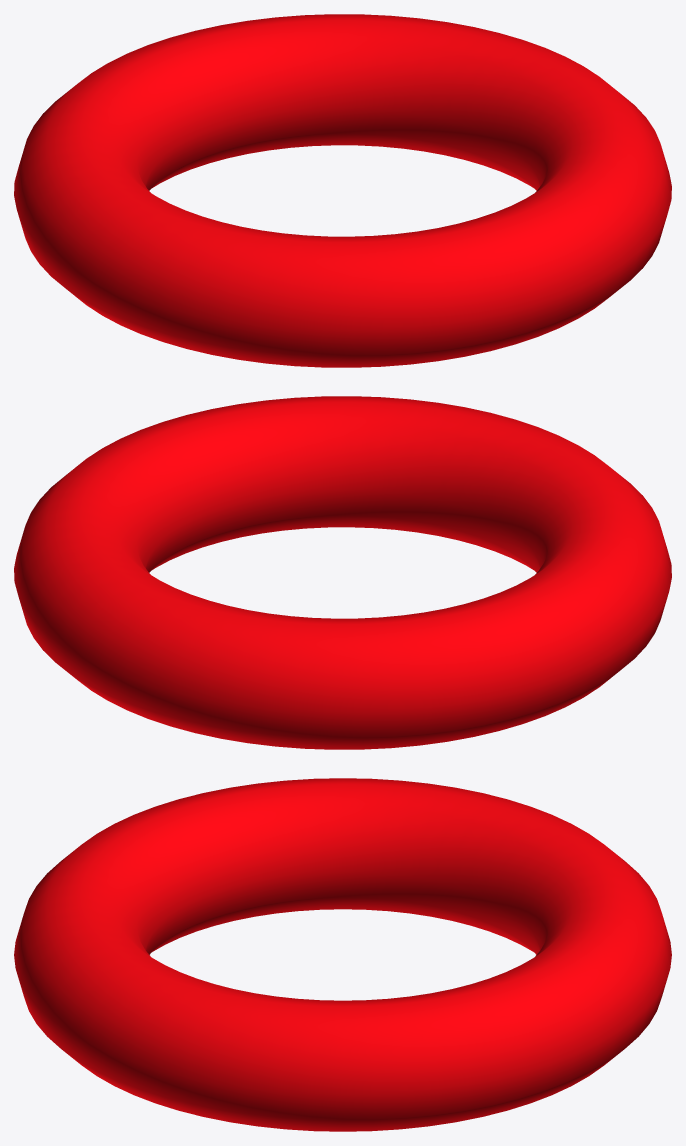
The picture shows the model from 3 angles, top to bottom: view 1: azimuth 30°, elevation 25°; view 2: azimuth 150°, elevation 25°; view 3: azimuth 270°, elevation 25°; orthographic projection.
Parts seen in each view (by area): view 1: Torus; view 2: Torus; view 3: Torus.
Boxes of the visible parts, <box> form: Torus: <box>14,14,671,367</box>; Torus: <box>14,396,671,749</box>; Torus: <box>14,778,671,1131</box>.
Bounding box in the file's own units: 250 × 50 × 250.
